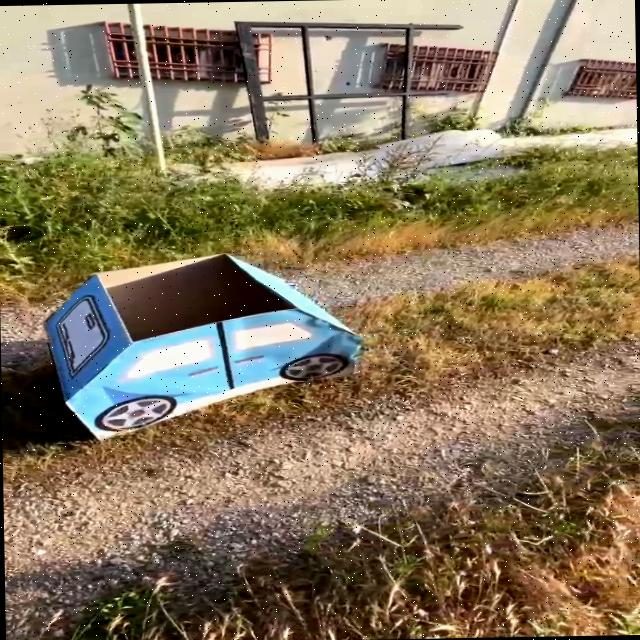blue_car: (0, 240, 400, 452)
